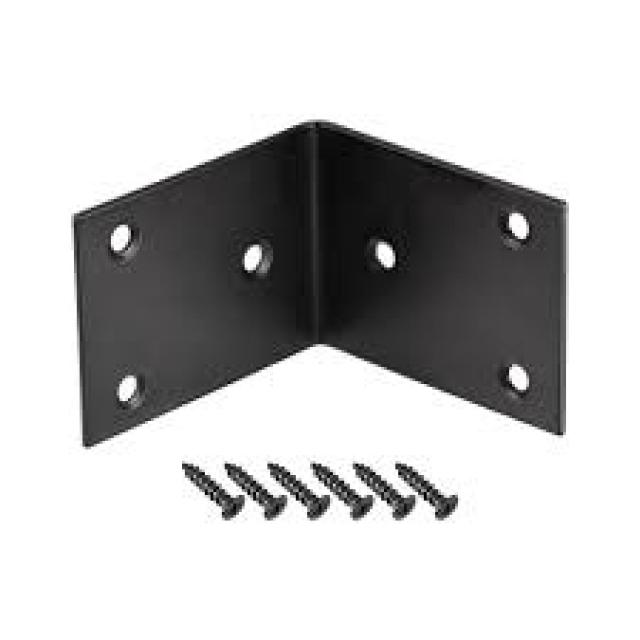holes: (363, 232, 403, 276), (113, 367, 147, 413), (103, 220, 142, 259), (500, 206, 534, 250), (237, 239, 271, 280), (500, 358, 535, 394)
